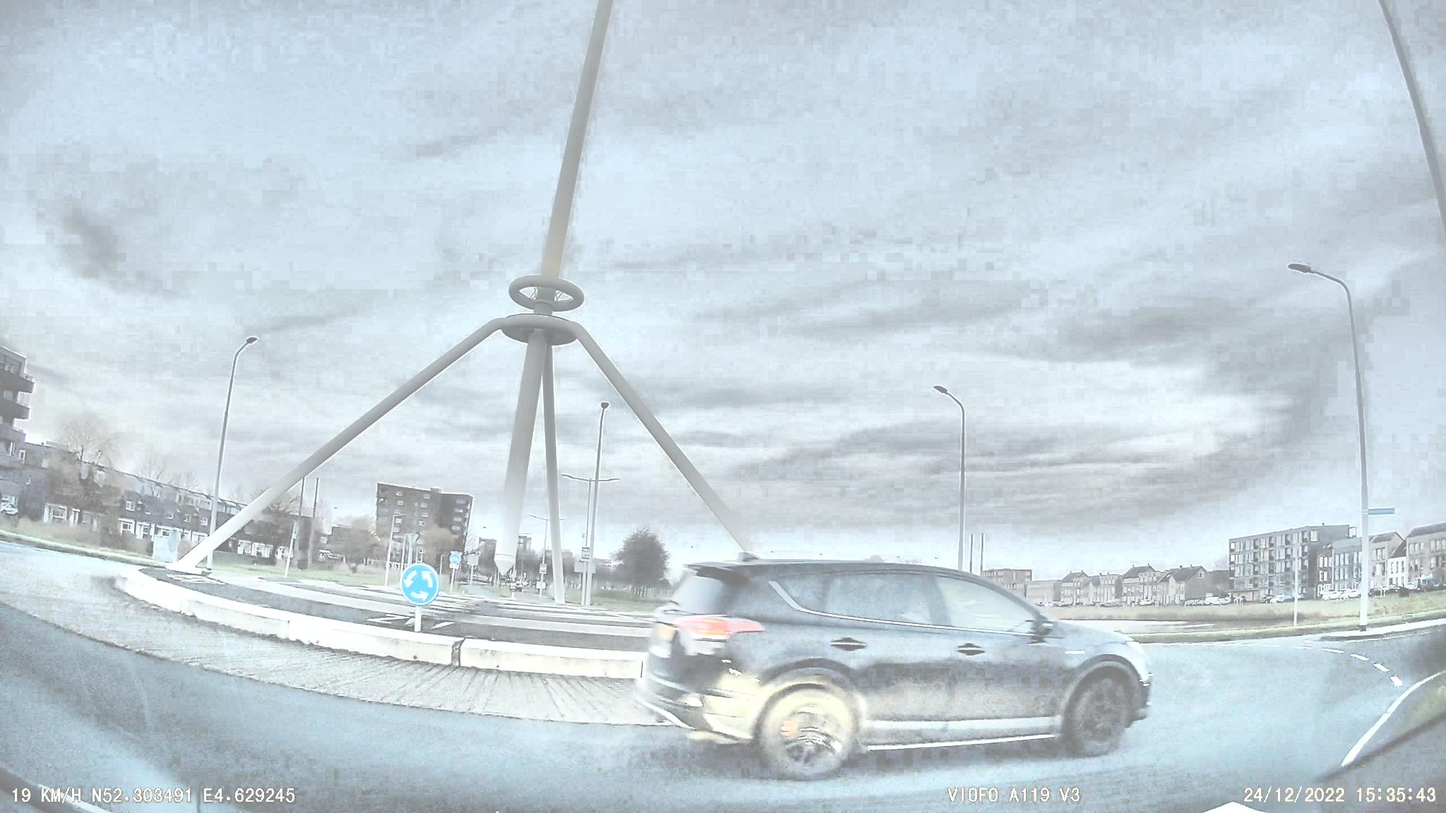Roads: (0, 606, 1446, 813)
